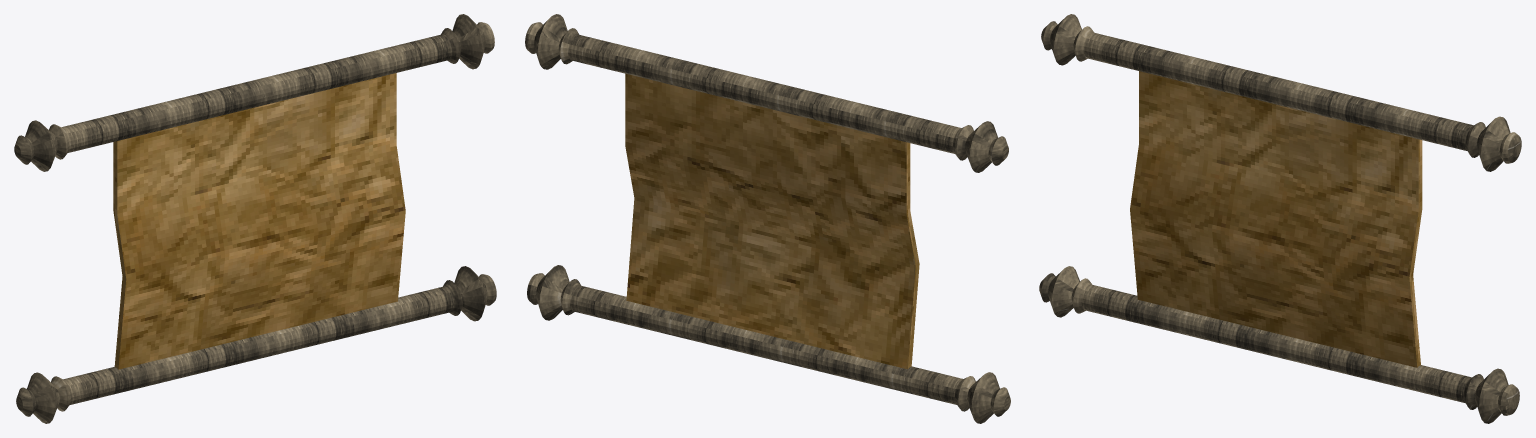
Rendered from 6.1 - scrollQuestItem.fbx.
3 views of the same model, side by side, from view 1: azimuth 30°, elevation 25°; view 2: azimuth 150°, elevation 25°; view 3: azimuth 330°, elevation 25° (orthographic).
Parts seen in each view (by area): view 1: scrollPaper, scrollTop, scrollBottom; view 2: scrollPaper, scrollTop, scrollBottom; view 3: scrollPaper, scrollTop, scrollBottom.
Boxes of the visible parts, x1,y1,x2,y2 form: scrollPaper: (113,73,405,369); scrollTop: (14,14,494,171); scrollBottom: (16,266,496,423); scrollPaper: (625,73,919,369); scrollTop: (525,14,1008,172); scrollBottom: (527,265,1010,423); scrollPaper: (1130,71,1422,367); scrollTop: (1041,14,1521,171); scrollBottom: (1039,266,1519,423).
Size of the model in its own units: 8.89 by 5.43 by 0.9888.
2 materials, 2 textured.
